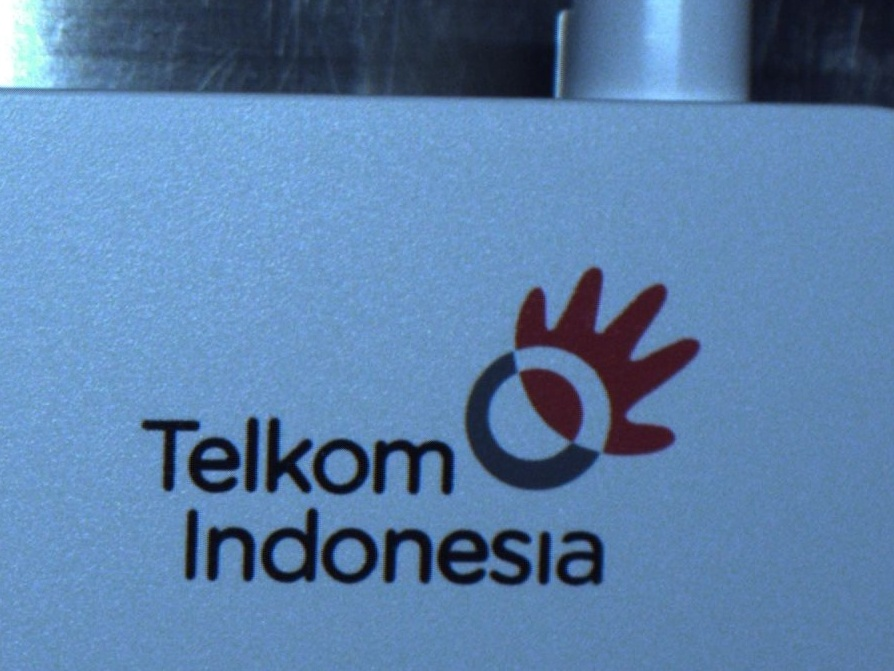BQ_IndonTelkom: (105, 257, 712, 589)
